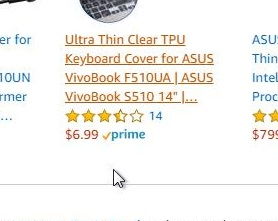cursor: (112, 167, 126, 190)
